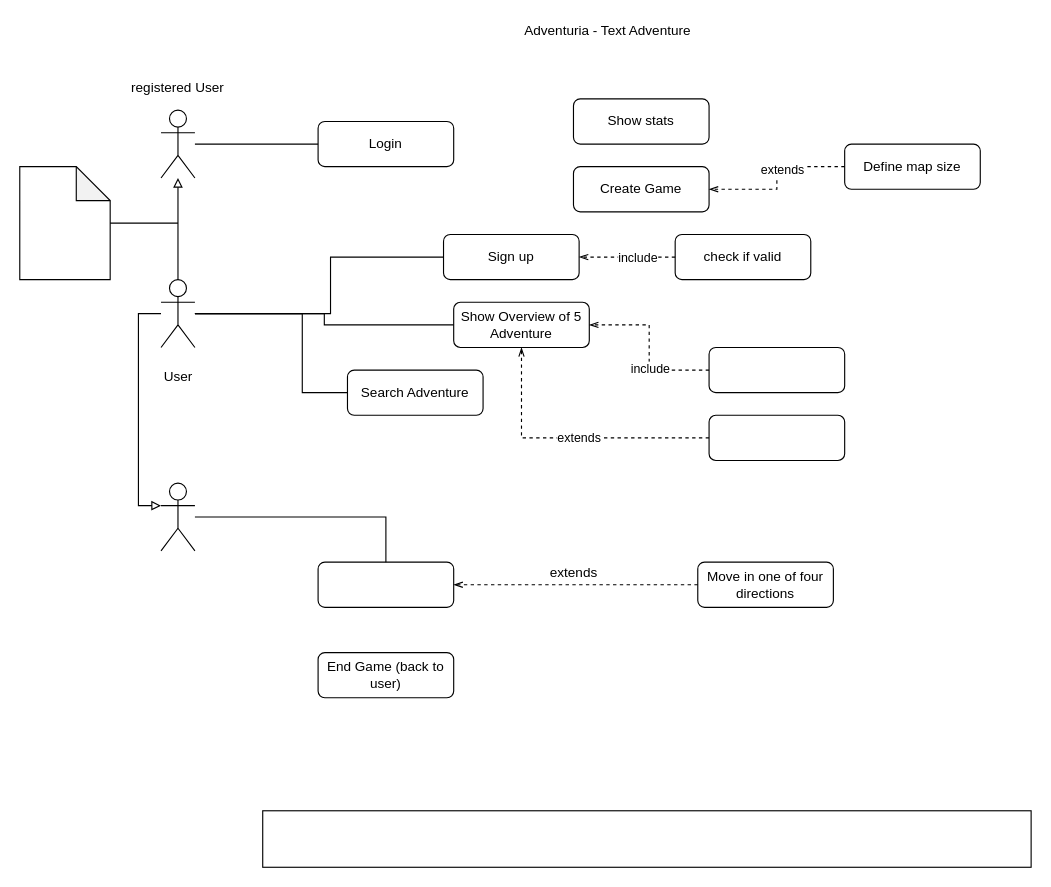
Some shapes in this 1051 by 887 pixel diagram are drawn without their labels. Each missing label, with the centre of its shape:
Play Game: (x=385, y=584)
Player: (x=177, y=516)
Show 5 more Adventures: (x=776, y=437)
show map size: (x=776, y=369)
Sign up not possible for registered User: (x=64, y=223)
